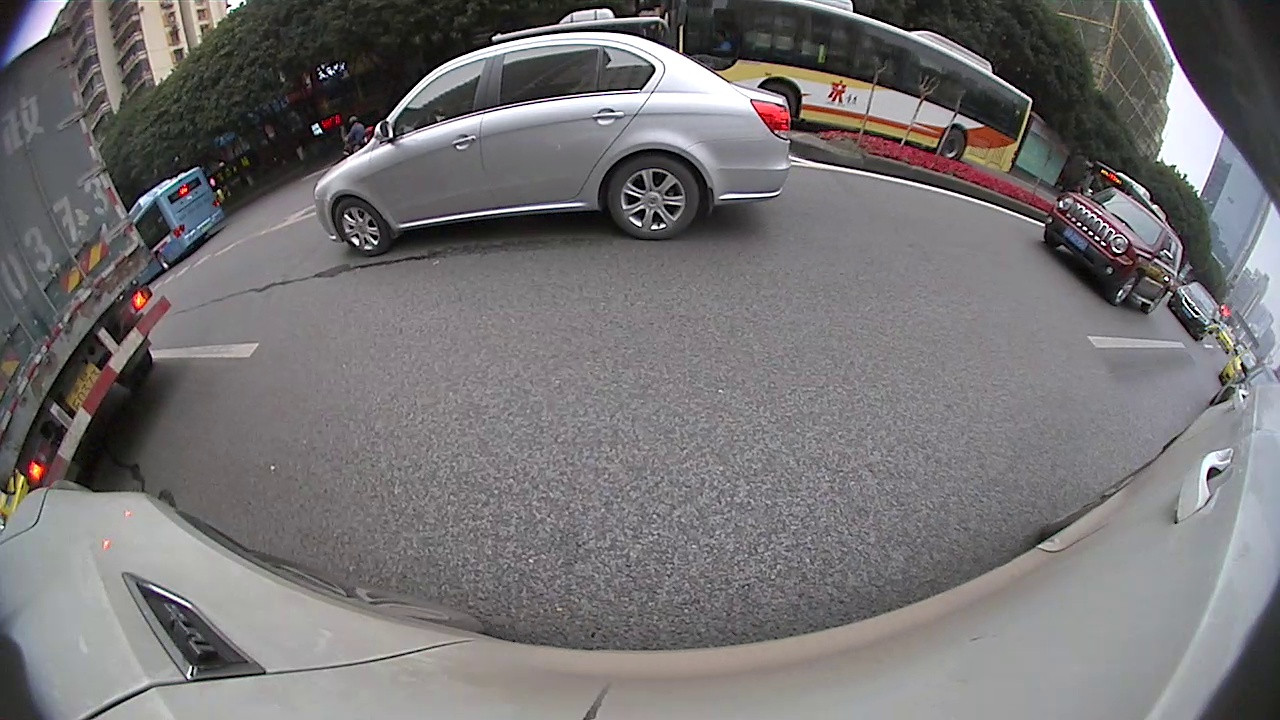bus: (676, 1, 1034, 178), (124, 168, 224, 283), (487, 9, 669, 48), (1084, 167, 1169, 224)
car: (311, 32, 792, 259), (1043, 187, 1186, 316), (1167, 283, 1220, 344)
front: (332, 195, 394, 259), (1103, 269, 1140, 308)
rear: (605, 150, 701, 241), (938, 126, 966, 159)
rider: (341, 118, 377, 156)
truck: (1, 26, 168, 484)
